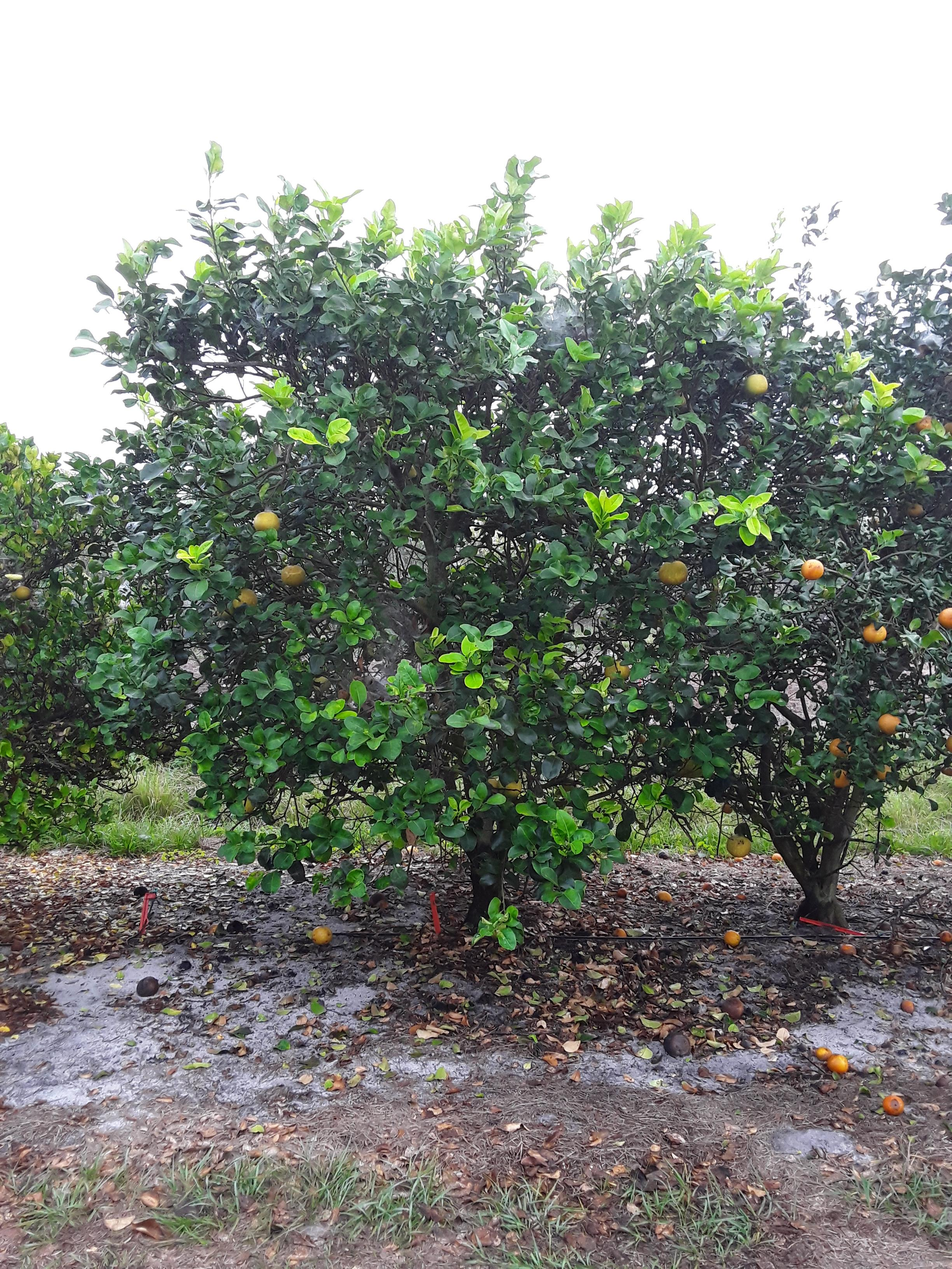fruit_on_ground: (656, 557, 691, 588), (909, 411, 943, 442), (602, 655, 635, 685), (229, 585, 260, 615), (250, 508, 283, 536), (741, 370, 772, 399), (667, 389, 697, 417), (280, 561, 309, 589), (725, 832, 753, 859), (231, 792, 258, 820), (497, 772, 525, 799), (484, 772, 511, 799), (861, 619, 889, 645), (875, 709, 903, 734), (799, 556, 826, 581), (827, 737, 854, 760), (903, 499, 926, 521), (871, 761, 894, 783), (829, 768, 852, 790), (937, 414, 952, 446), (935, 603, 952, 631), (13, 584, 33, 602), (941, 732, 952, 755), (719, 800, 735, 815), (940, 760, 952, 778)
fruit_on_tree: (663, 1030, 694, 1059), (719, 995, 745, 1021), (135, 975, 162, 999), (308, 923, 335, 947), (881, 1092, 906, 1117), (824, 1053, 851, 1076), (722, 928, 742, 949), (812, 1043, 833, 1061), (900, 997, 917, 1014), (655, 888, 674, 903), (838, 942, 857, 957), (937, 927, 952, 944), (612, 925, 628, 939), (931, 856, 947, 869), (614, 885, 629, 898), (904, 978, 919, 991), (770, 851, 784, 863), (701, 880, 715, 892)
